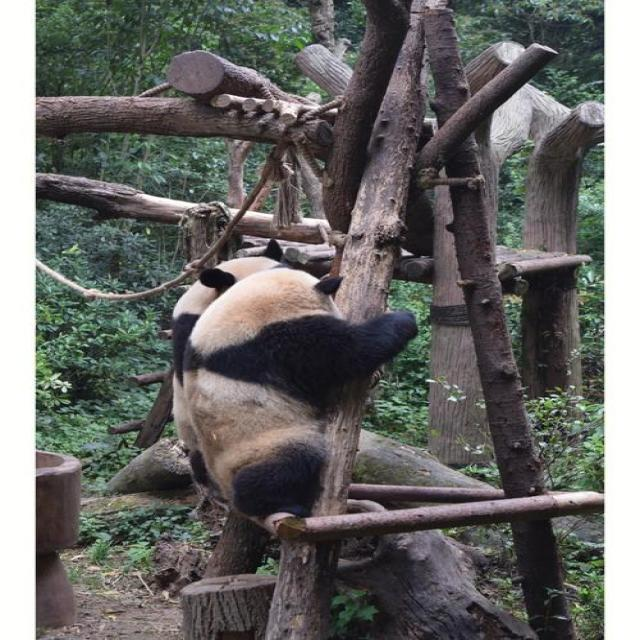panda: (106, 231, 430, 511)
